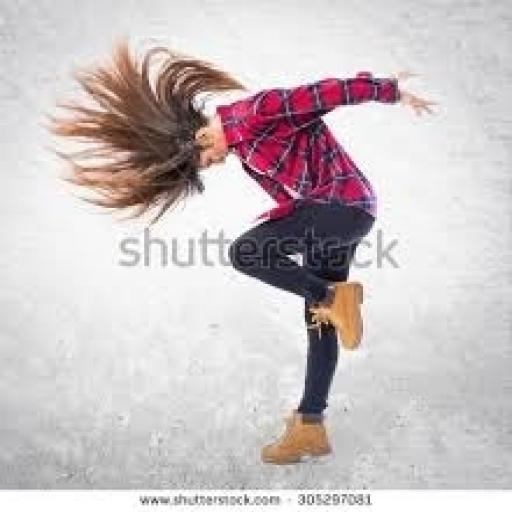dancing: (39, 36, 440, 467)
